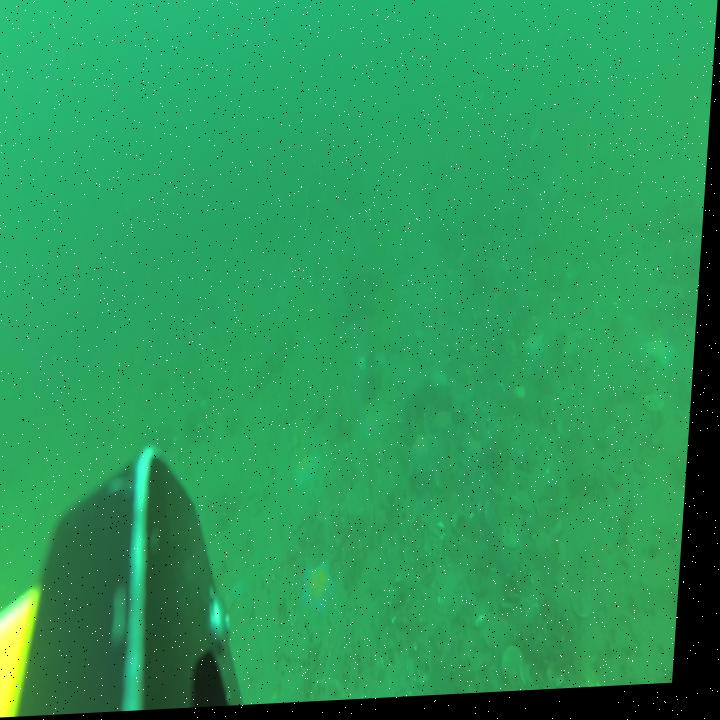holothurian: (572, 476, 619, 513)
scallop: (510, 649, 535, 692), (581, 598, 604, 627), (554, 667, 576, 694), (388, 627, 409, 654), (648, 399, 673, 421), (508, 535, 529, 557)
starfish: (307, 560, 344, 625), (648, 342, 683, 380), (299, 455, 330, 494), (527, 329, 554, 365), (415, 437, 440, 469)
